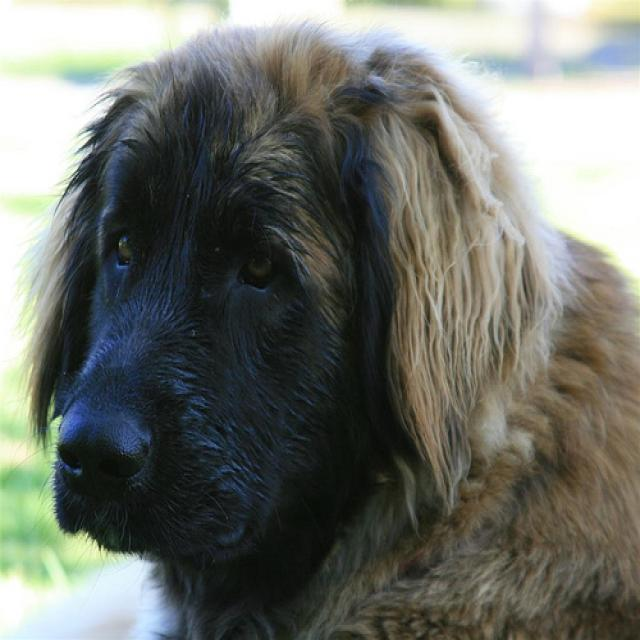dog-leonberger: (18, 18, 637, 637)
